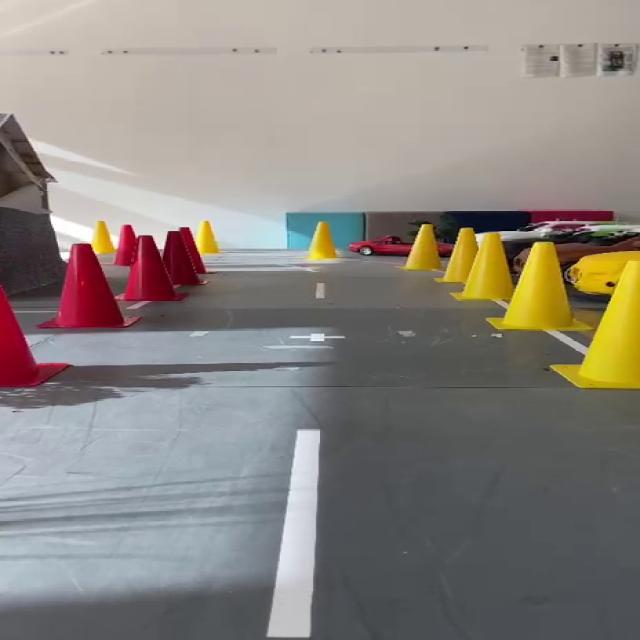Cone-red: (41, 244, 126, 327), (0, 287, 68, 387), (120, 231, 203, 302), (113, 225, 137, 266)
Cones-yellow: (436, 228, 589, 332), (550, 251, 639, 388), (401, 224, 439, 269), (309, 222, 337, 259), (92, 221, 117, 255), (197, 221, 219, 255)
